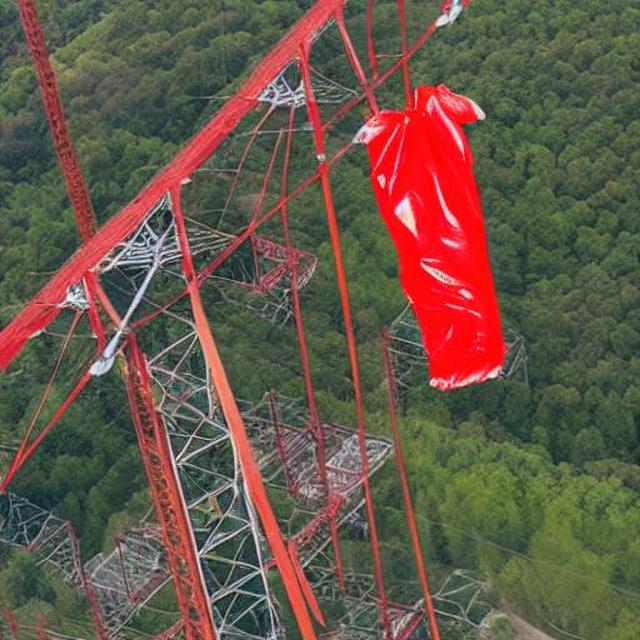plastic bag: (351, 67, 507, 388)
